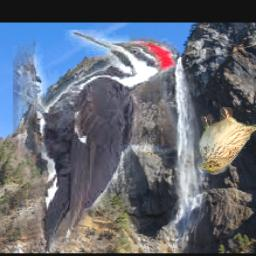Sparrow: (196, 108, 256, 176)
Woodpecker: (13, 30, 177, 251)
